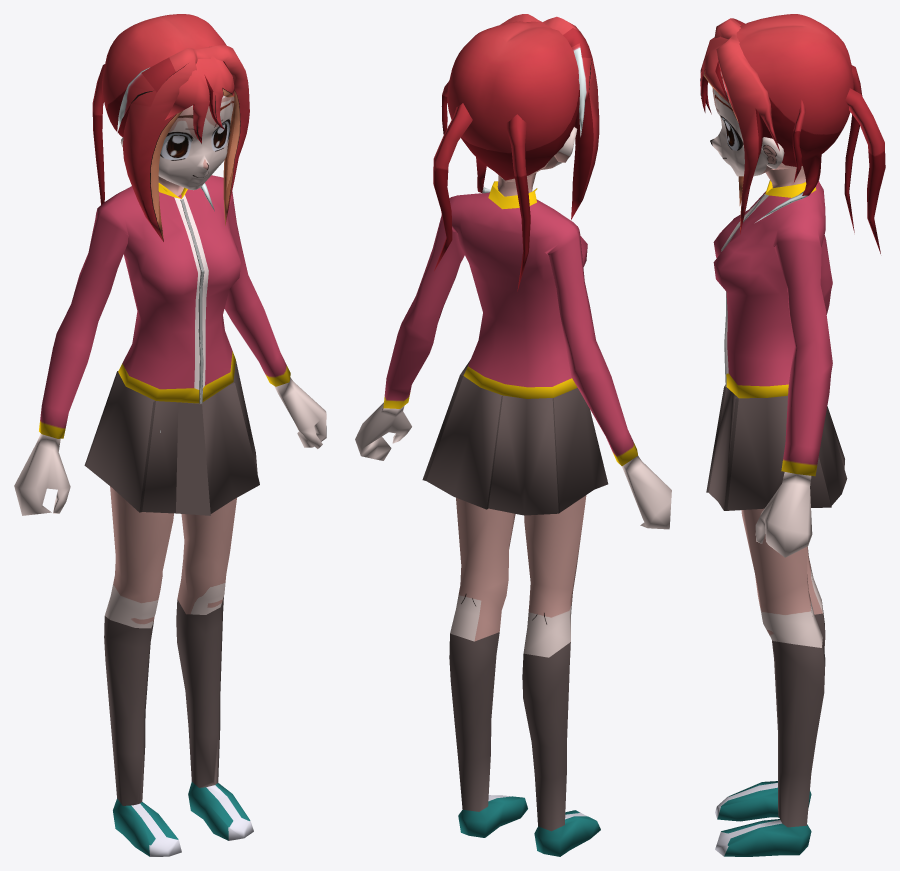
Rendered from vb_character.glb.
The picture shows the model from 3 angles, left to right: view 1: azimuth 30°, elevation 25°; view 2: azimuth 150°, elevation 25°; view 3: azimuth 270°, elevation 25°; orthographic projection.
Parts seen in each view (by area): view 1: Cuerpo, export.001, Cuerpo.001, Cabeza.001, Cube; view 2: Cuerpo, export.001, Cuerpo.001; view 3: Cuerpo, export.001, Cuerpo.001, Cabeza.001.
Boxes of the visible parts, left/top/right/bottom form: Cuerpo: left=14, top=175, right=326, bottom=856; export.001: left=92, top=14, right=249, bottom=241; Cuerpo.001: left=84, top=360, right=259, bottom=515; Cabeza.001: left=120, top=95, right=234, bottom=190; Cube: left=180, top=199, right=204, bottom=403; Cuerpo: left=355, top=173, right=671, bottom=856; export.001: left=433, top=14, right=599, bottom=291; Cuerpo.001: left=422, top=360, right=608, bottom=515; Cuerpo: left=713, top=168, right=832, bottom=856; export.001: left=700, top=14, right=885, bottom=253; Cuerpo.001: left=706, top=384, right=847, bottom=510; Cabeza.001: left=710, top=71, right=803, bottom=176.
Size of the model in its own units: 2.64 by 6.59 by 1.37.
Materials: 1 (1 with a texture image).
